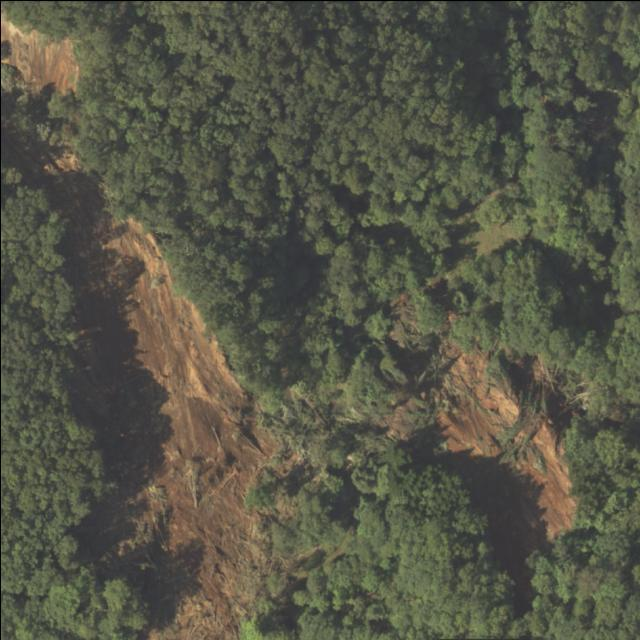landslide: (106, 219, 272, 562), (421, 343, 576, 609), (0, 14, 77, 91), (175, 554, 237, 640)
